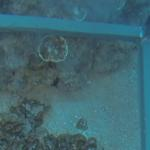dead: (4, 2, 147, 149)
